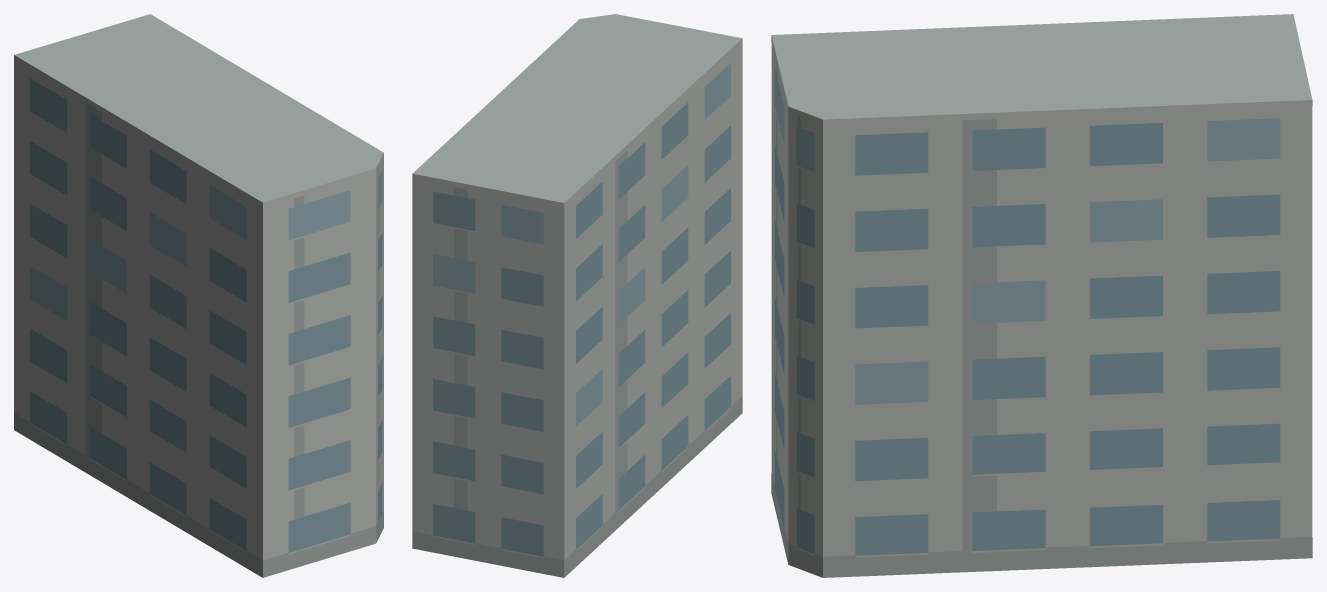
File: survey-upis-32572744.glb
The picture shows the model from 3 angles, left to right: view 1: azimuth 30°, elevation 25°; view 2: azimuth 150°, elevation 25°; view 3: azimuth 270°, elevation 25°; orthographic projection. The views are drawn at different scales.
Visible parts, largest first — view 1: survey-upis-32572744.tmp; view 2: survey-upis-32572744.tmp; view 3: survey-upis-32572744.tmp.
Boxes of the visible parts, x1,y1,x2,y2 form: survey-upis-32572744.tmp: [14, 14, 383, 577]; survey-upis-32572744.tmp: [412, 14, 742, 577]; survey-upis-32572744.tmp: [771, 14, 1312, 577].
Size of the model in its own units: 8.68 by 17.55 by 18.79.
